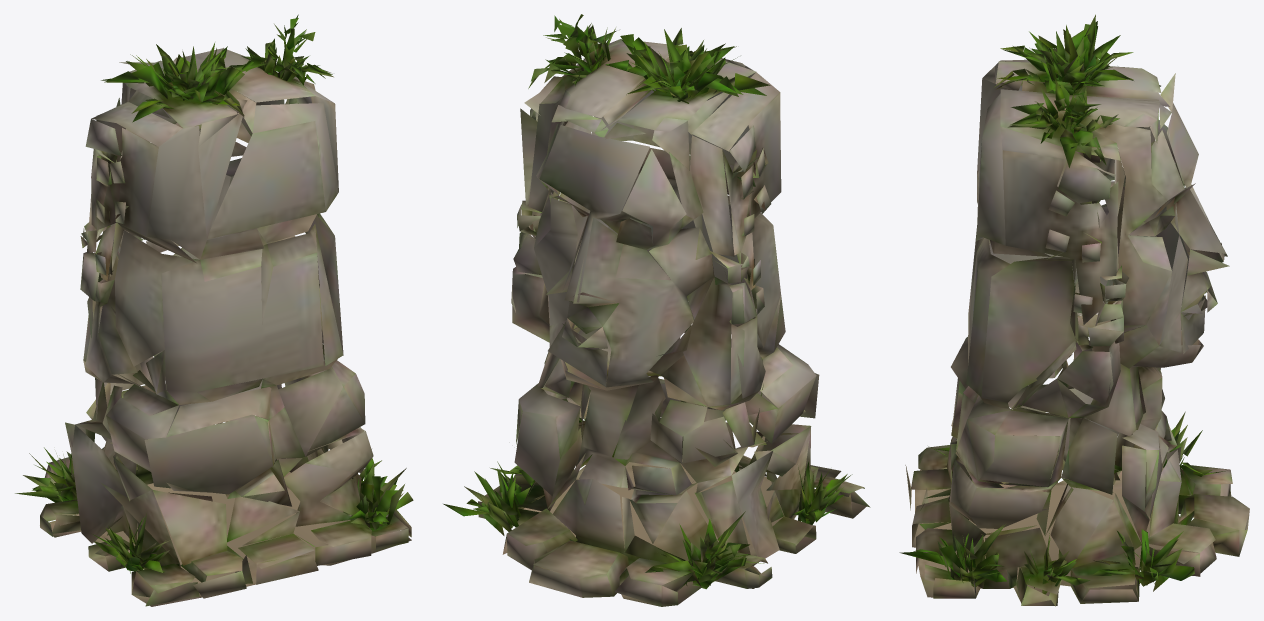
The model's file is stat_profile.glb.
The picture shows the model from 3 angles, left to right: view 1: azimuth 30°, elevation 25°; view 2: azimuth 150°, elevation 25°; view 3: azimuth 270°, elevation 25°; orthographic projection. The views are drawn at different scales.
Visible parts, largest first — view 1: tripo_node_c2e708dc-d3e5-4c9a-8aa8-89767dd43327; view 2: tripo_node_c2e708dc-d3e5-4c9a-8aa8-89767dd43327; view 3: tripo_node_c2e708dc-d3e5-4c9a-8aa8-89767dd43327.
Part boxes in pixels (bbox=[...]): tripo_node_c2e708dc-d3e5-4c9a-8aa8-89767dd43327: bbox=[15, 14, 413, 606]; tripo_node_c2e708dc-d3e5-4c9a-8aa8-89767dd43327: bbox=[443, 14, 870, 606]; tripo_node_c2e708dc-d3e5-4c9a-8aa8-89767dd43327: bbox=[899, 14, 1249, 606].
Size of the model in its own units: 0.6676 by 0.9995 by 0.6426.
1 material, 1 textured.
